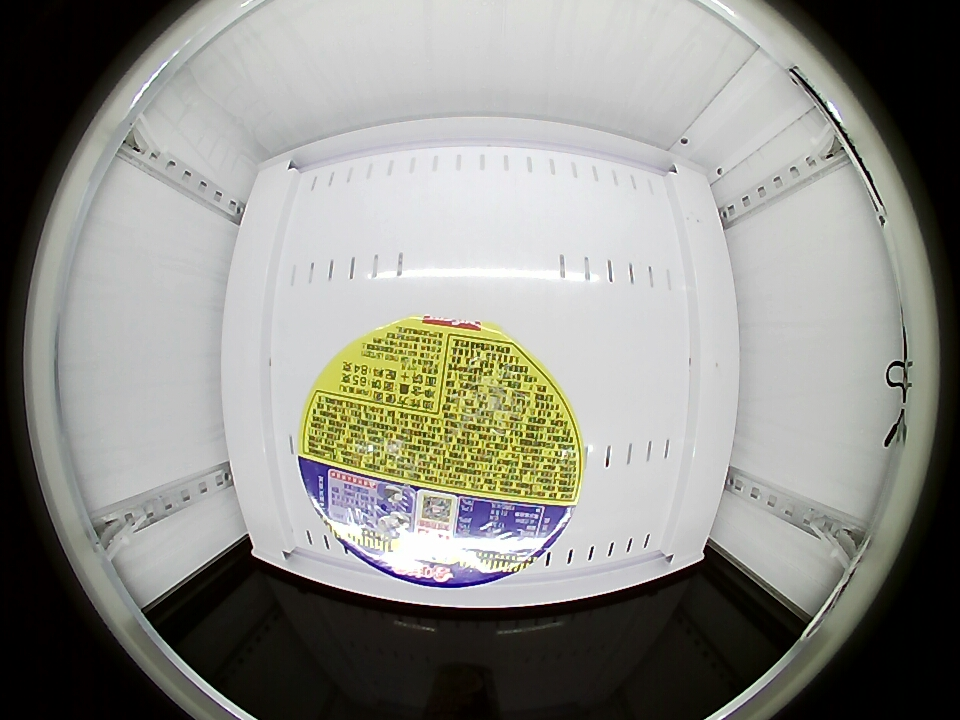heweidao: (297, 314, 584, 590)
